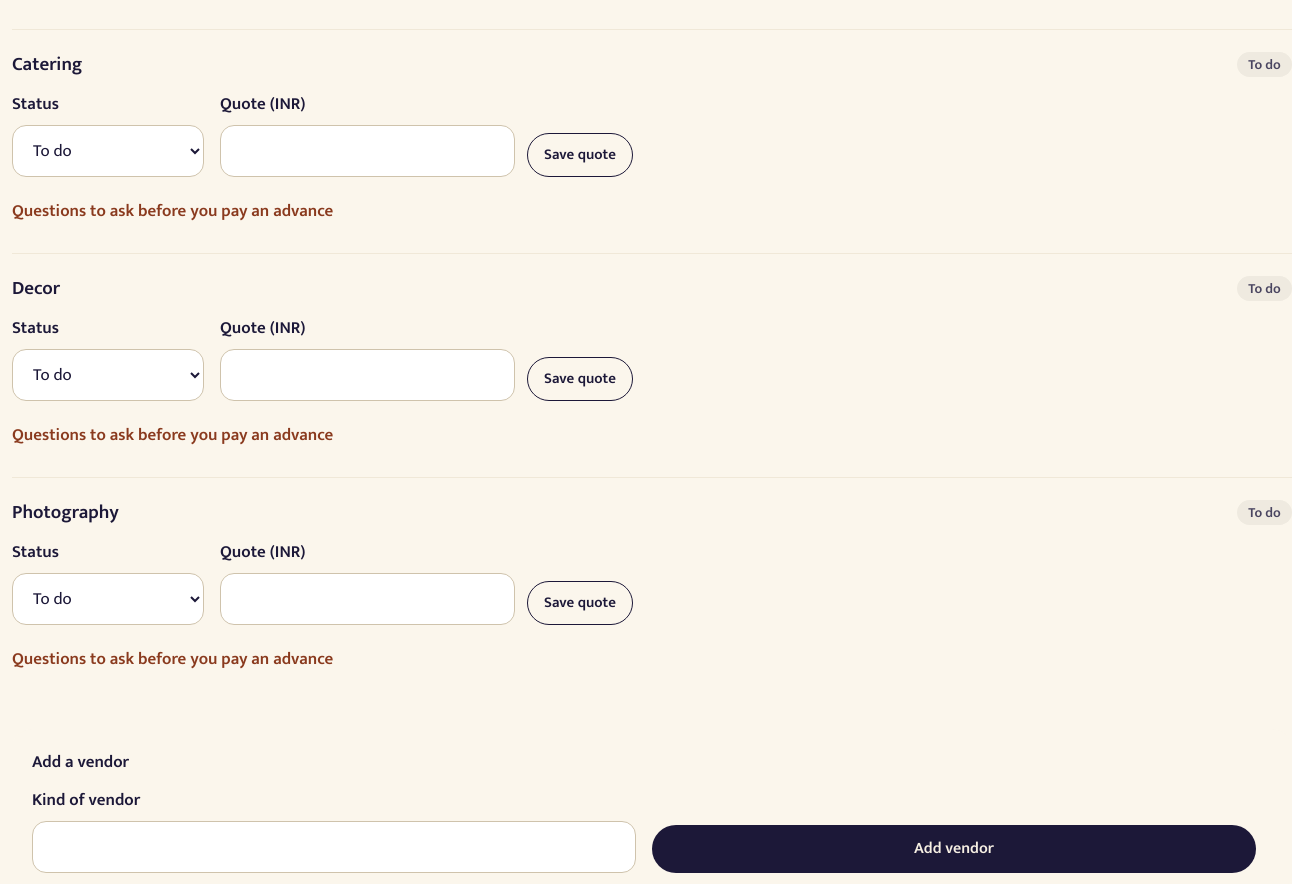
Test: VendorsPanel › adds a vendor, and explains why when it can't
(page scrolled)
Click the button "Add vendor": (954, 849) [652,825,1256,873]
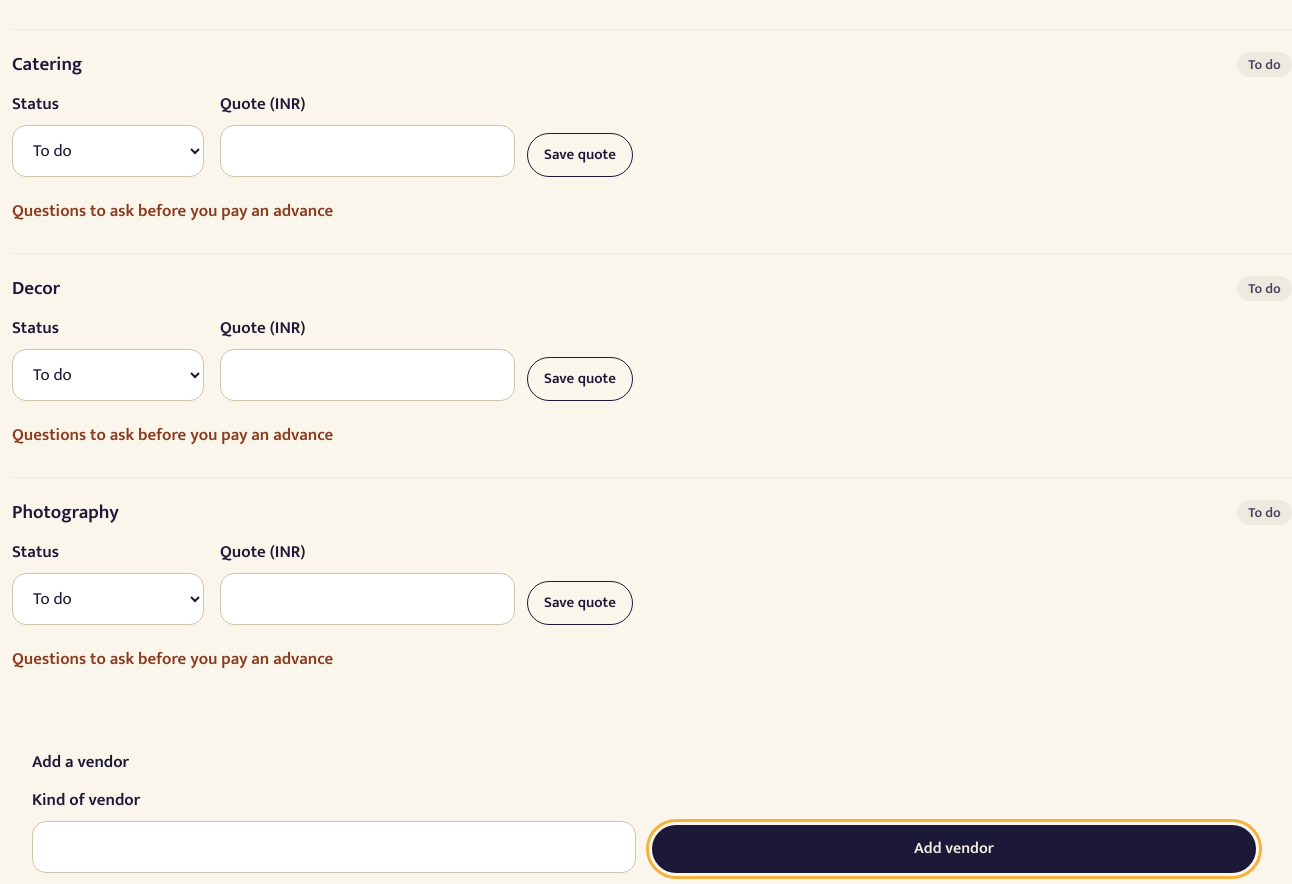
In the field labelled "Kind of vendor": (334, 847) [32,821,636,873], type "Mehendi artist"
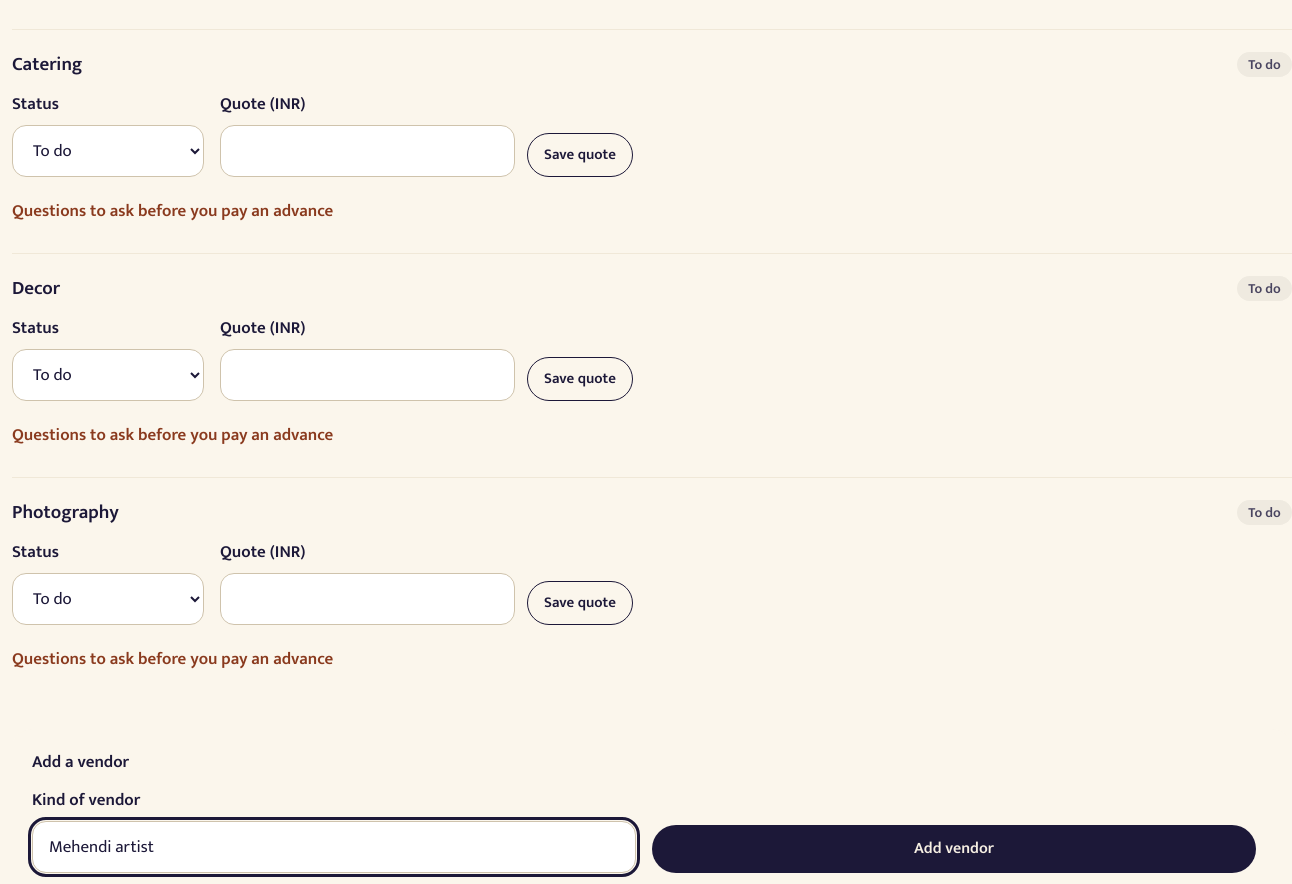
Click the button "Add vendor": (954, 849) [652,825,1256,873]
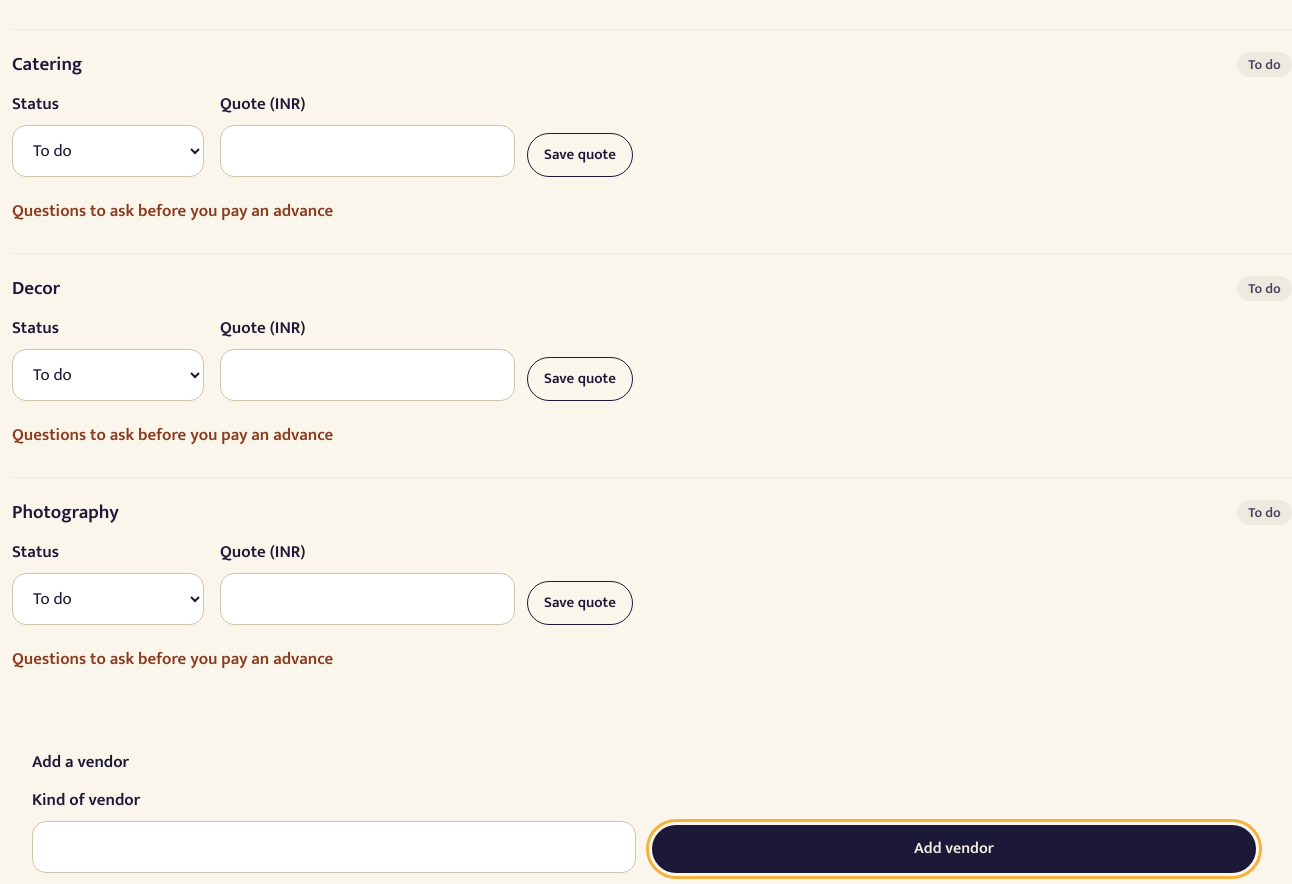
In the field labelled "Kind of vendor": (334, 847) [32,821,636,873], type "Mehendi artist"
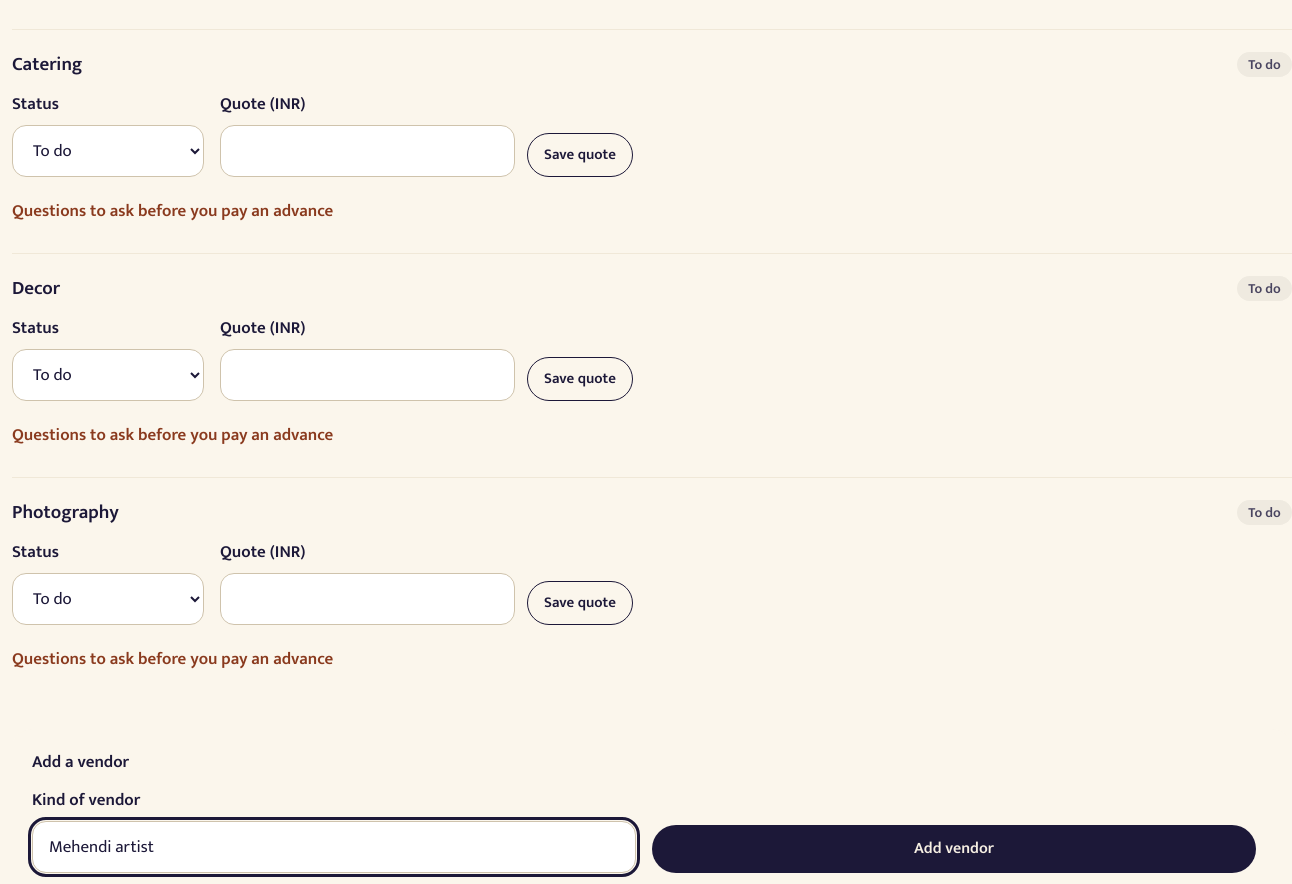
Click the button "Add vendor": (954, 849) [652,825,1256,873]
(page scrolled)
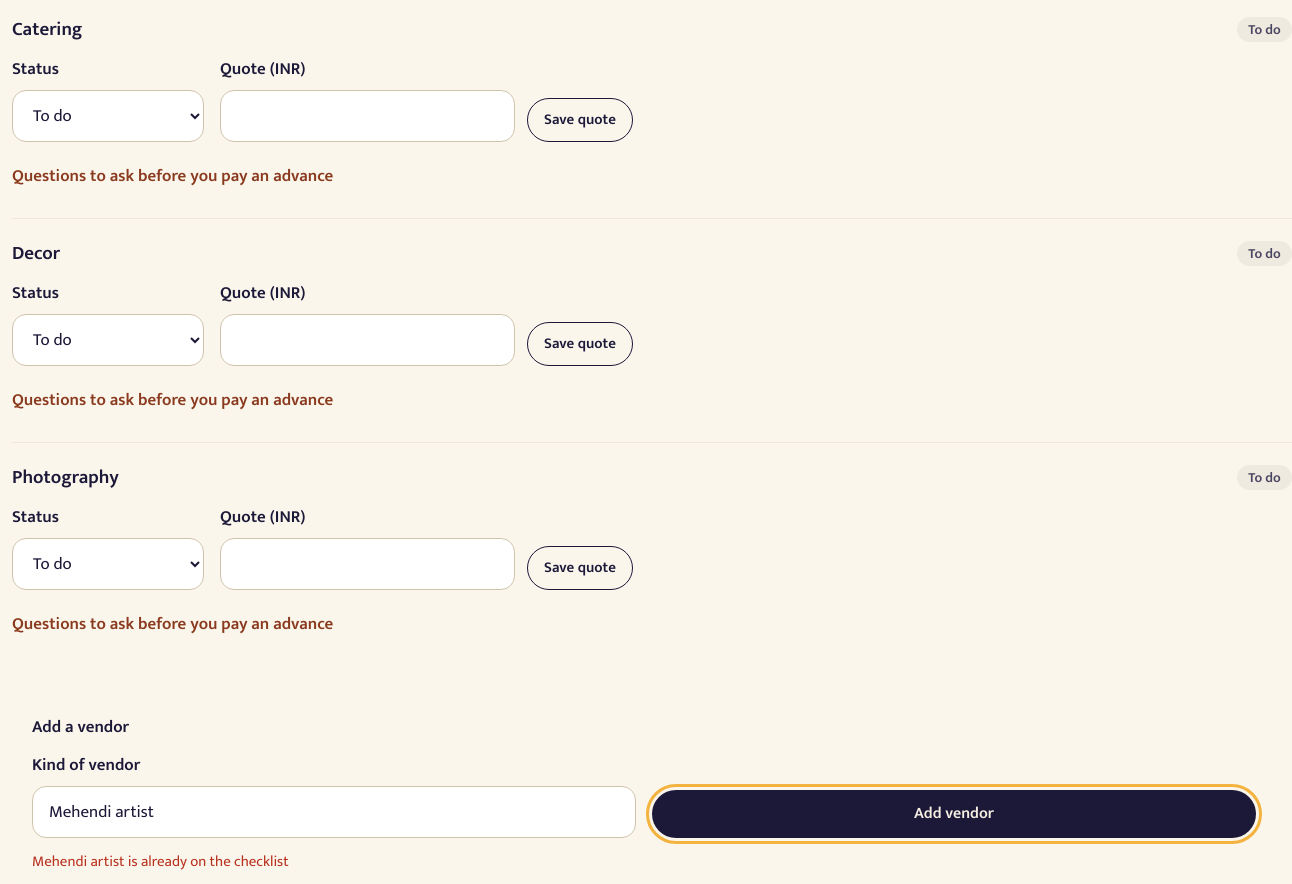
Check: the text "Mehendi artist is already on the checklist" is shown, box [32,849,289,874]
